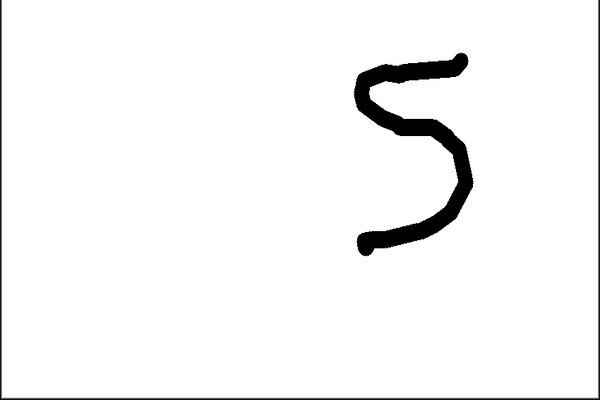S: (347, 49, 476, 260)
